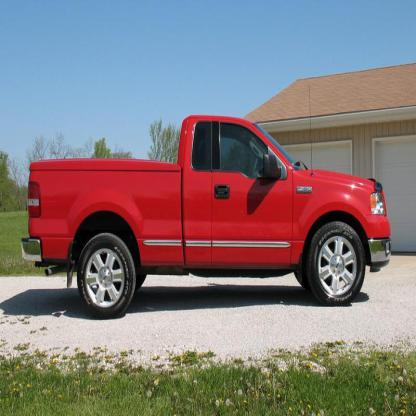Vehicle: (22, 114, 391, 322)
